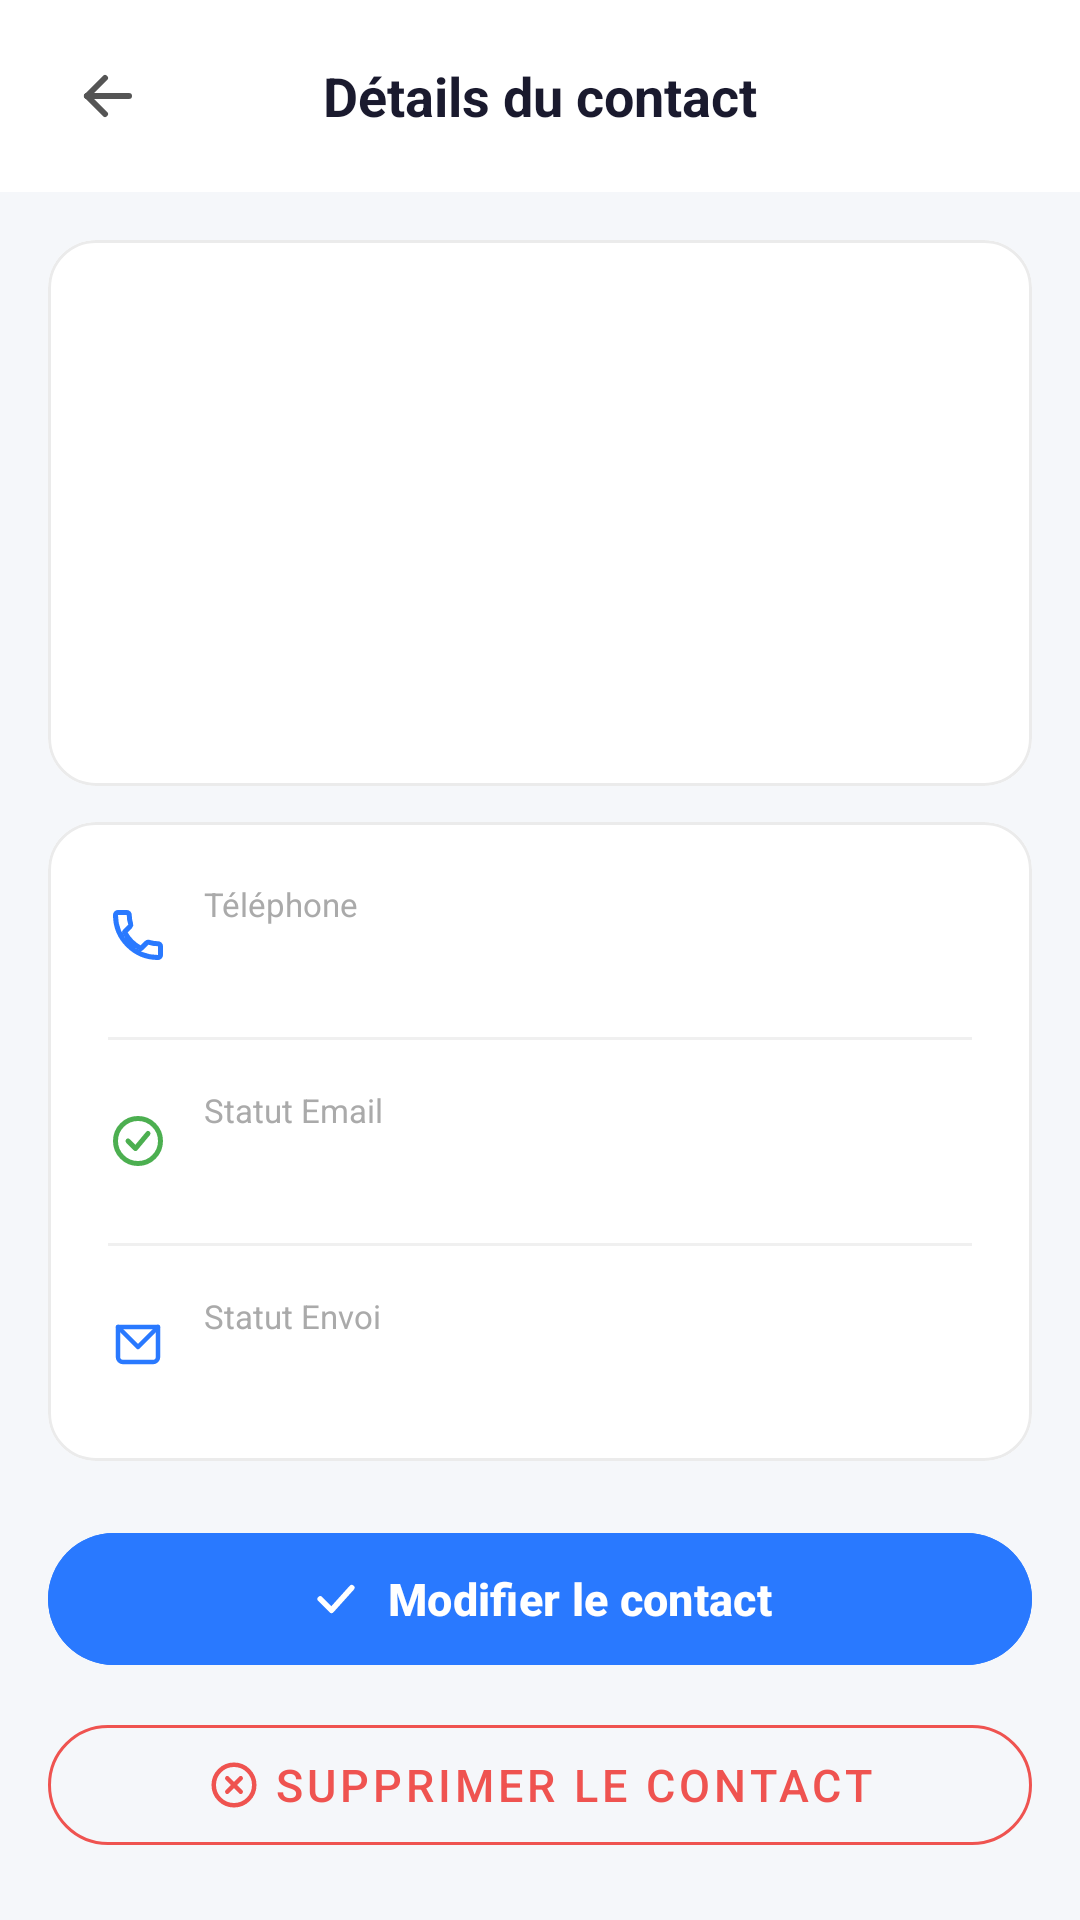

Named icons in this screenshot (1080 x 1920) and their centers, (x=x, y=y):
arrow back: (x=108, y=96)
check circle: (x=138, y=1141)
email sent: (x=138, y=1344)
